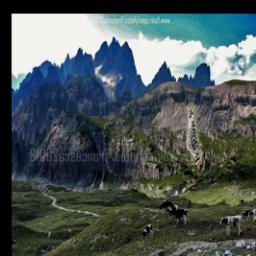Woodpecker: (185, 94, 201, 166)
